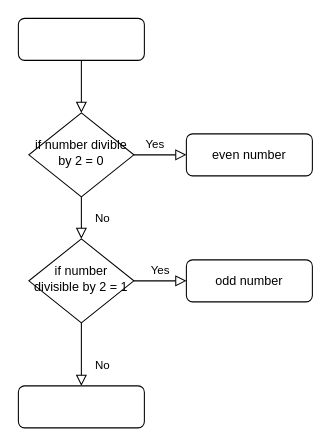
The diagram is 331 pixels wide and 446 high, and some of its shapes have lost their labels. Each missing label, with the centre of its shape:
"input invalid" goes at [80,406].
"Odd and even" goes at [80,38].
